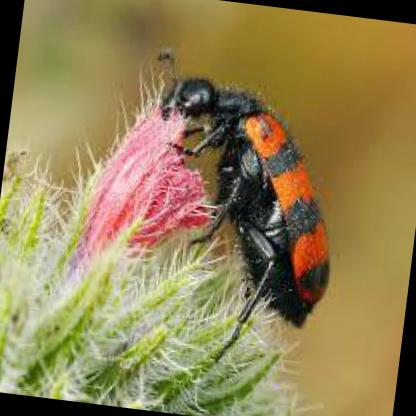blister beetle: (155, 46, 330, 336)
